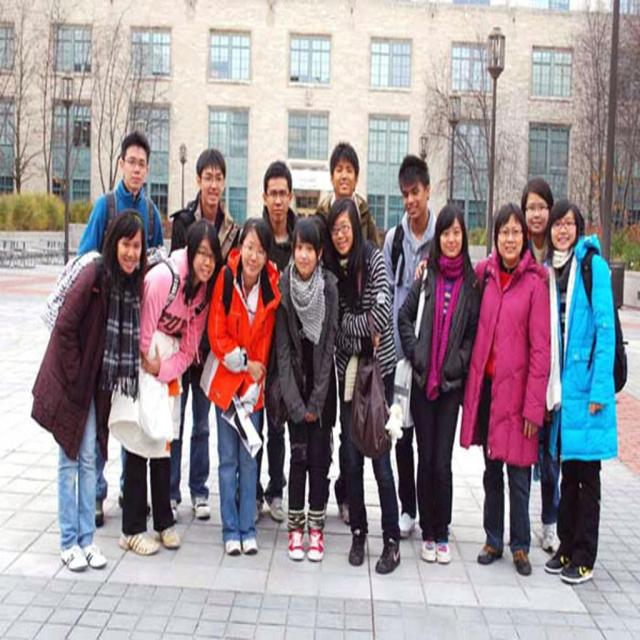Face: (488, 211, 535, 276), (427, 209, 475, 269), (228, 233, 275, 294), (330, 211, 373, 269), (322, 145, 362, 204), (393, 169, 435, 225), (545, 205, 587, 259), (184, 235, 223, 291), (259, 166, 295, 224), (522, 182, 559, 238), (121, 213, 145, 283), (121, 138, 150, 195), (198, 159, 229, 207), (293, 234, 324, 278)
